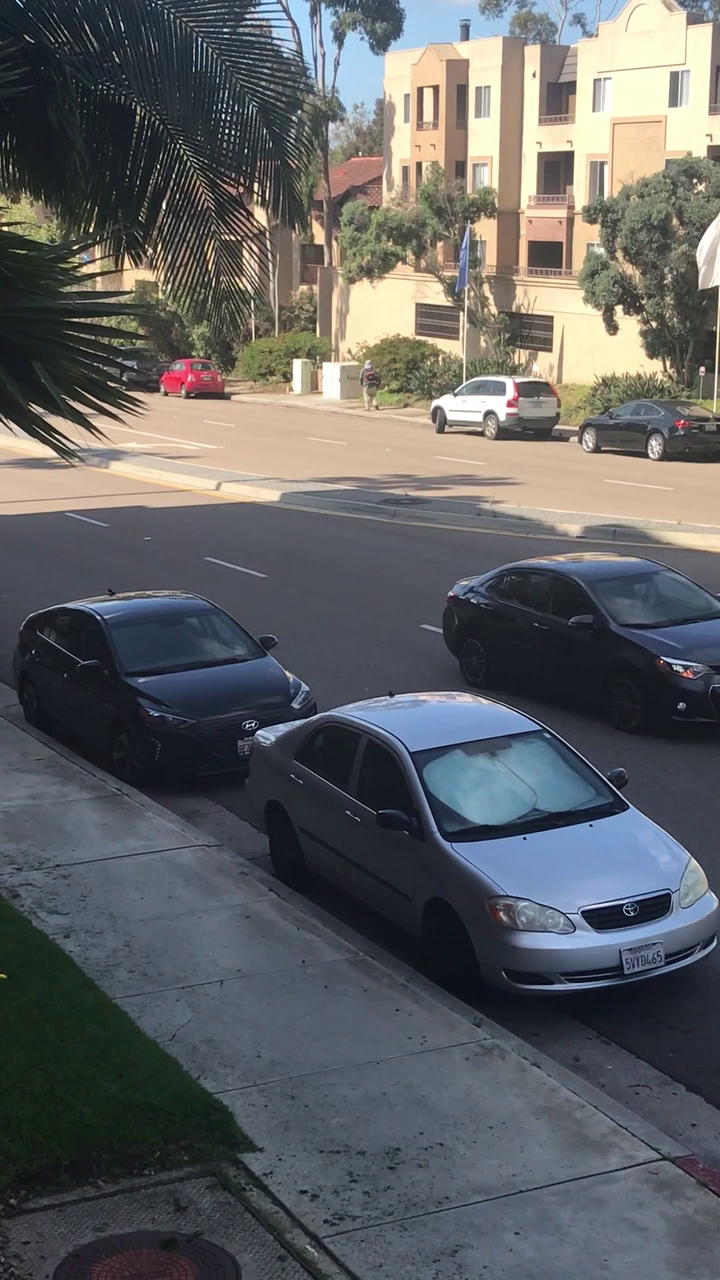car: (240, 664, 709, 1017)
